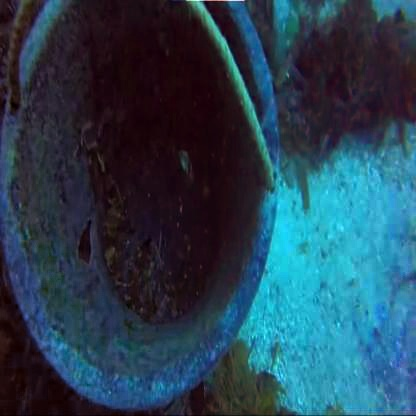plastic: (1, 0, 289, 366)
